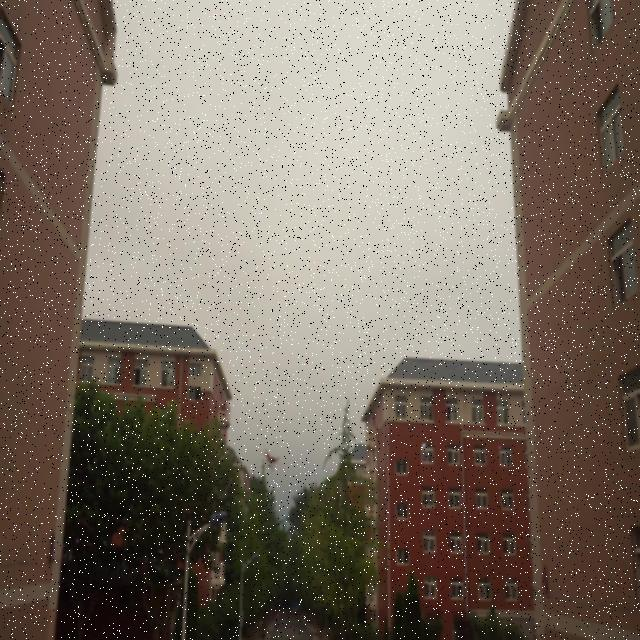UAV: (264, 449, 280, 472)
